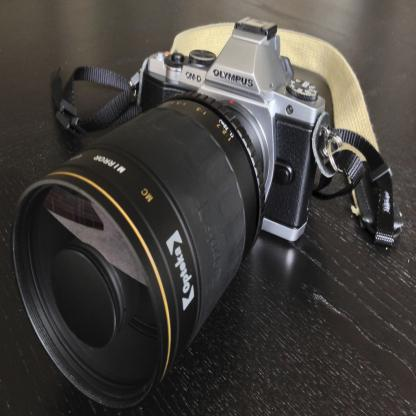Camera: (5, 10, 393, 391)
